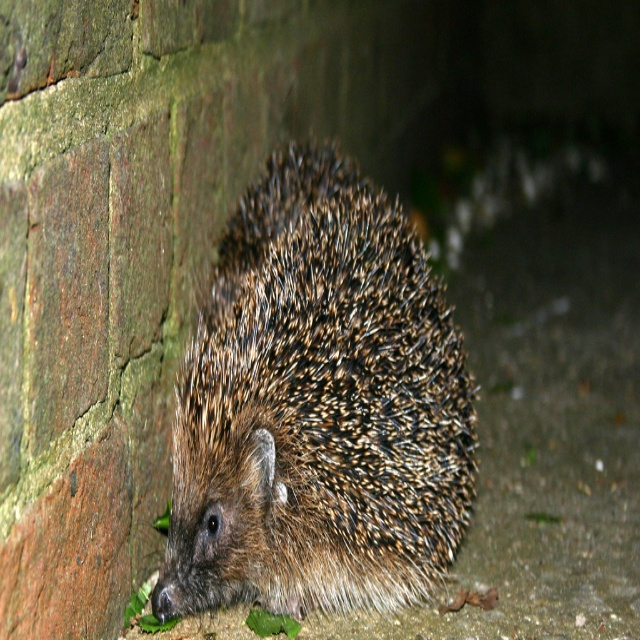Hedgehog: (147, 119, 481, 626)
